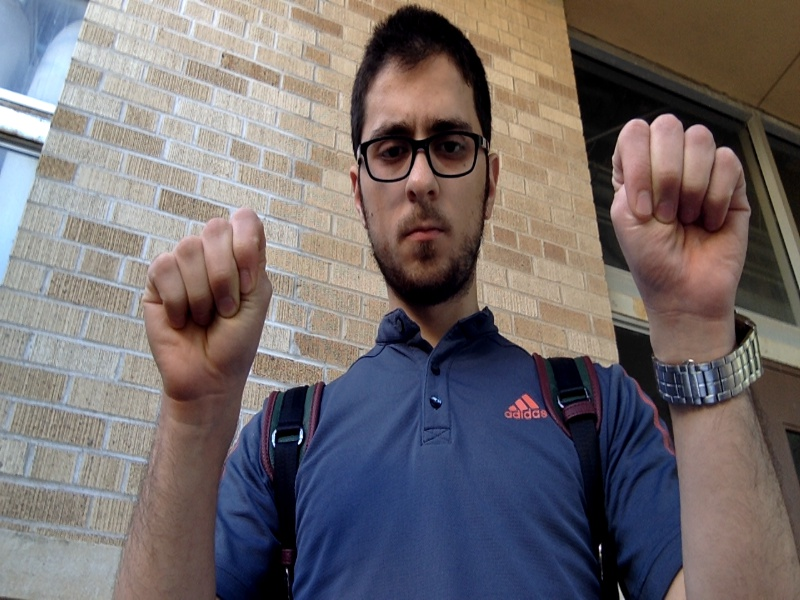0-hand: (612, 114, 751, 317), (143, 211, 272, 399)
